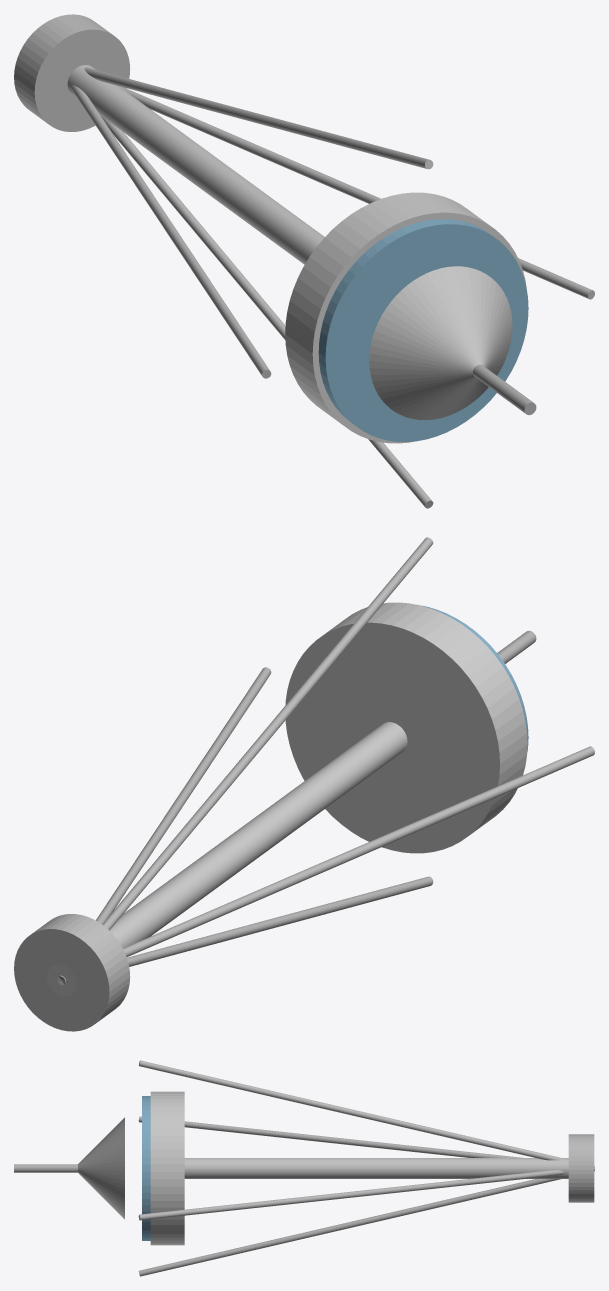
File: space_needle_stylized.glb
The picture shows the model from 3 angles, top to bottom: view 1: azimuth 30°, elevation 25°; view 2: azimuth 150°, elevation 25°; view 3: azimuth 270°, elevation 25°; orthographic projection. The views are drawn at different scales.
Visible parts, largest first — view 1: world; view 2: world; view 3: world.
Part boxes in pixels (x1=…): world: x1=14, y1=14, x2=594, y2=508; world: x1=14, y1=537, x2=594, y2=1031; world: x1=14, y1=1060, x2=594, y2=1276.
Bounding box in the file's own units: 55.79 × 55.79 × 136.
